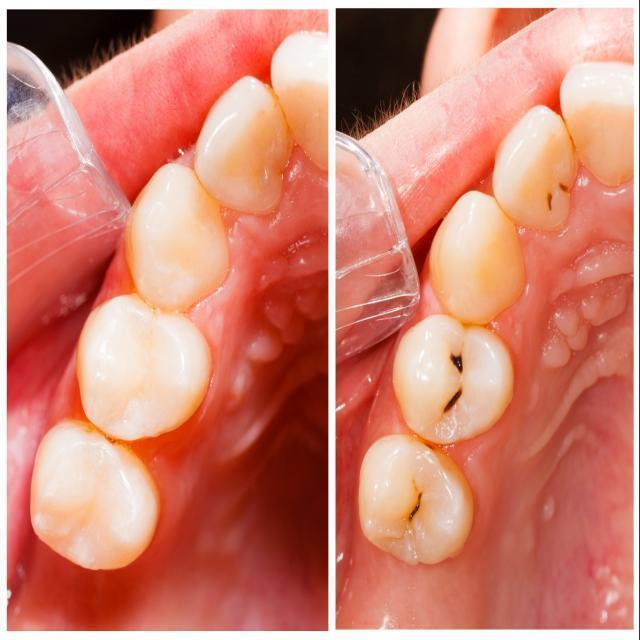Cavity: (388, 433, 442, 567), (411, 342, 500, 413), (513, 145, 580, 237)
